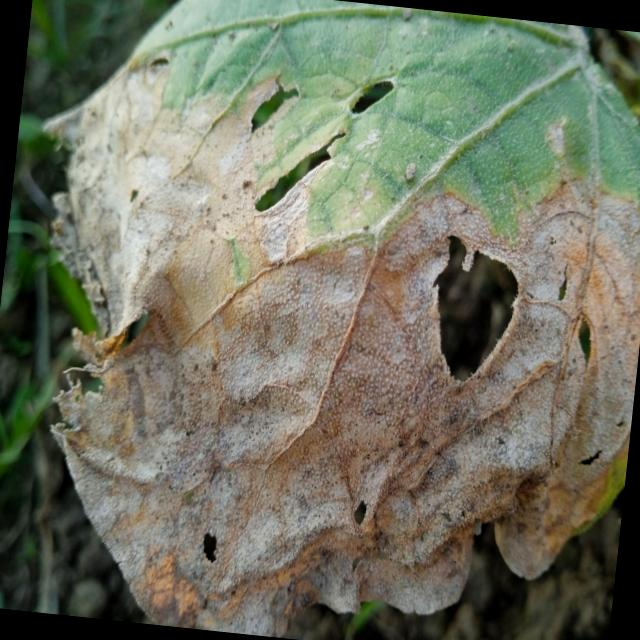cucumber_anthracnose: (78, 29, 640, 640)
